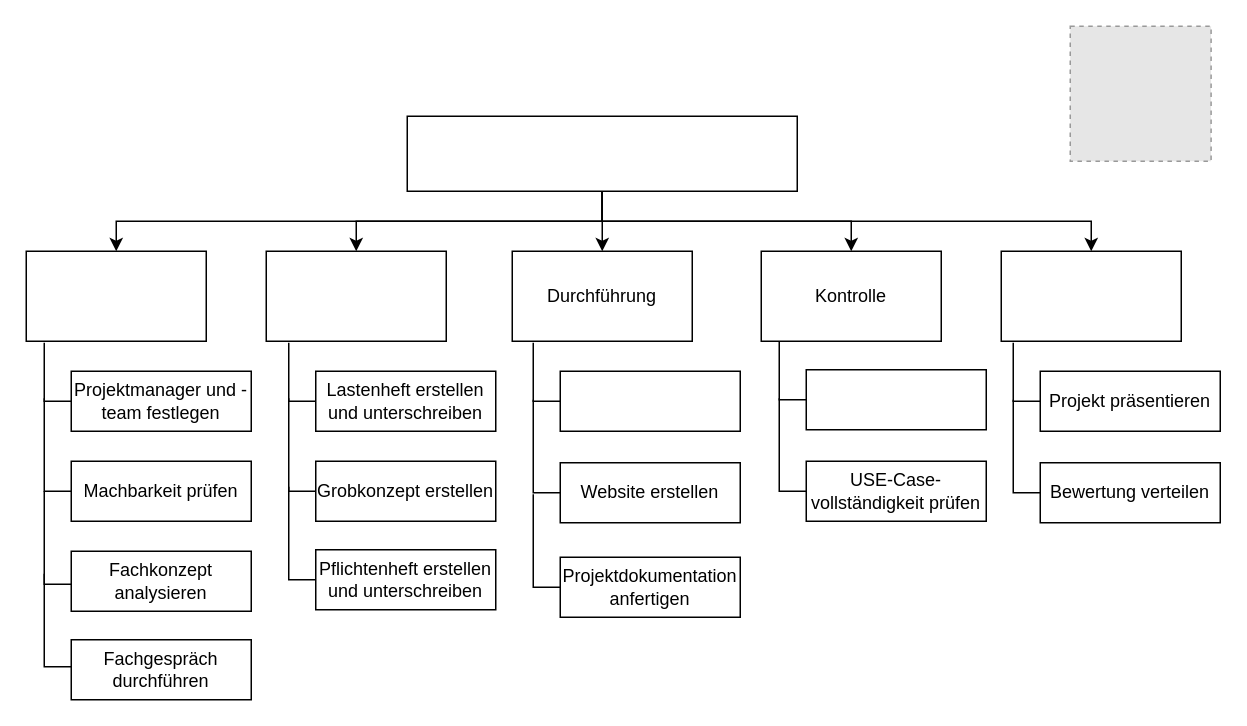
Some shapes in this 1247 by 726 pixel diagram are drawn without their labels. Grey dashed boxes stand in for pictures. Each missing label, with the box of its shape:
Abschluss: (1000, 250, 1181, 341)
Initialisierung: (25, 250, 206, 341)
Planung: (265, 250, 446, 341)
Projekt-Gemeindezentrum Bad Erzland: (406, 115, 797, 191)
Server bereitstellen: (559, 370, 740, 431)
Systemtestung durchführen: (805, 368, 986, 430)
